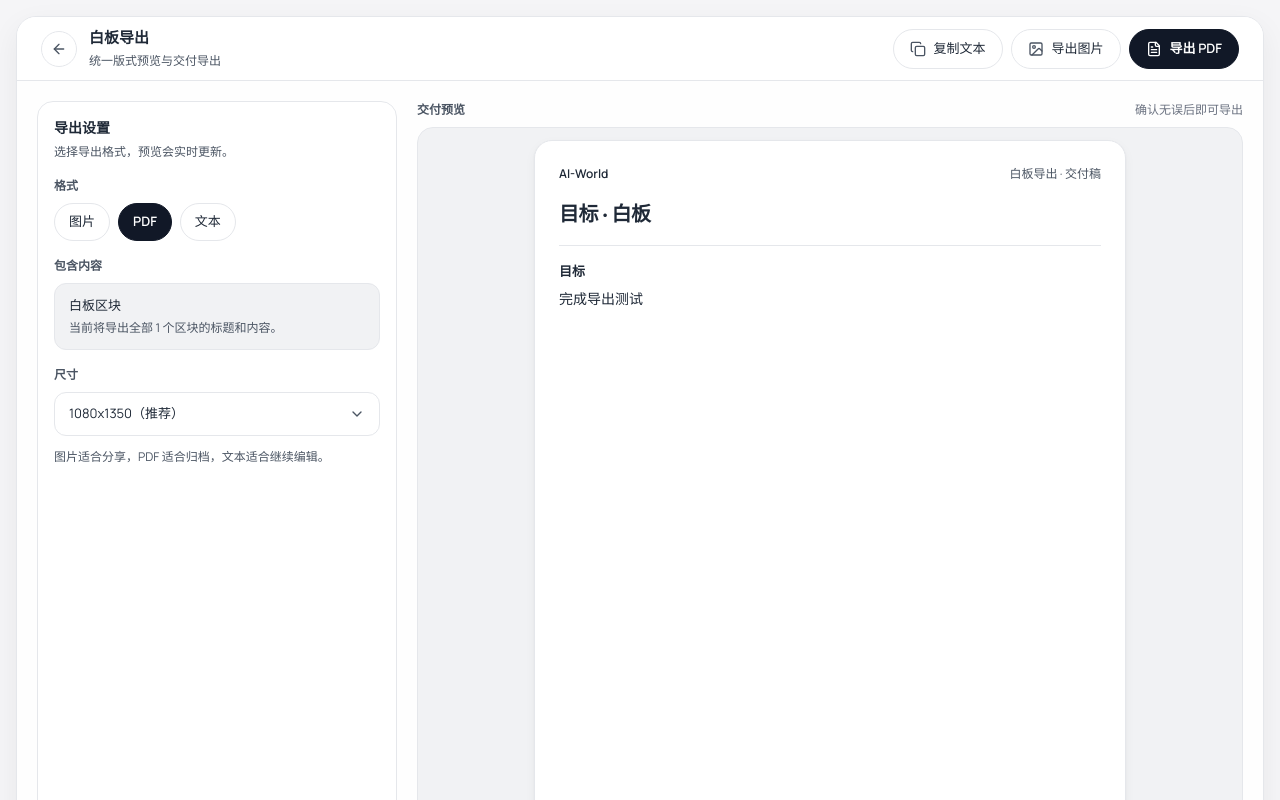
it: ExportPage › copies text content with action button
The width and height of the screenshot is (1280, 800).
Click the button labelled "复制文本".
click(948, 48)  # box x1=892 y1=28 x2=1002 y2=68
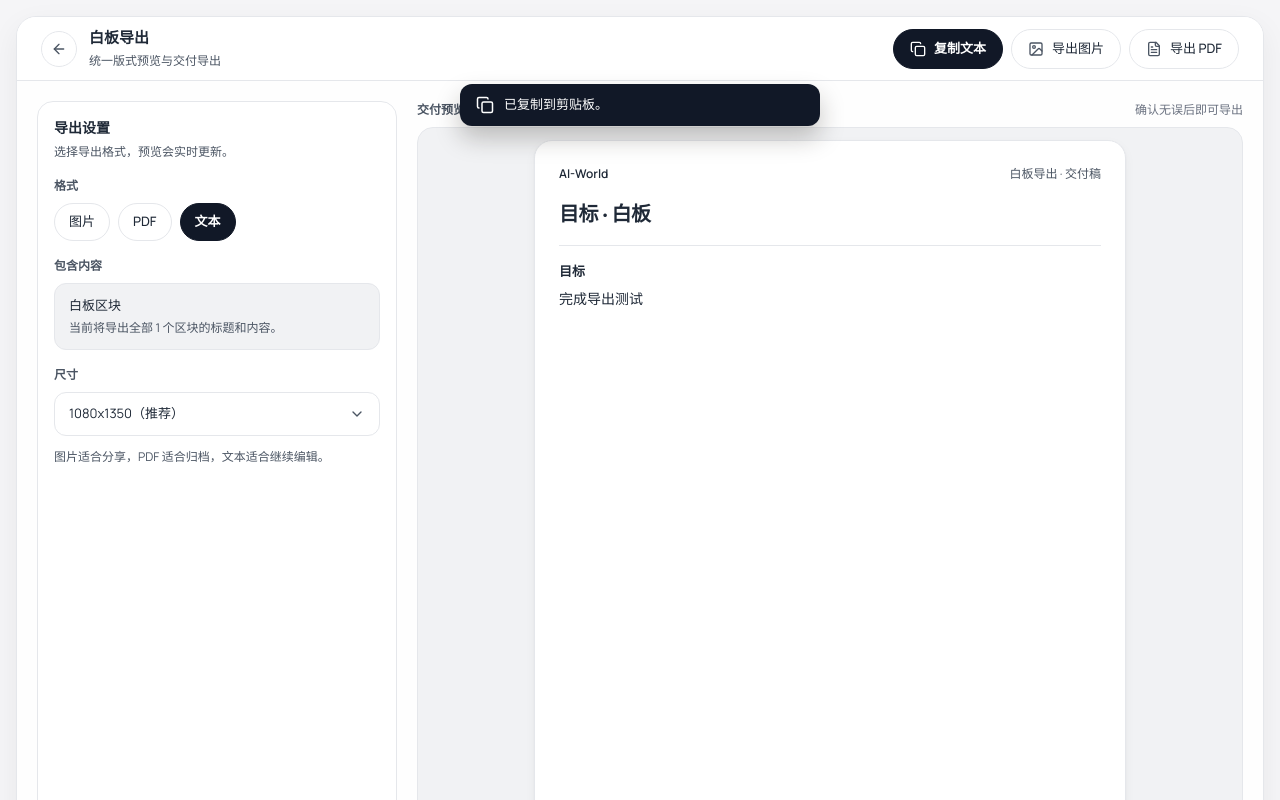
Expected: the text "已复制到剪贴板。" is shown, x1=504 y1=96 x2=608 y2=114
